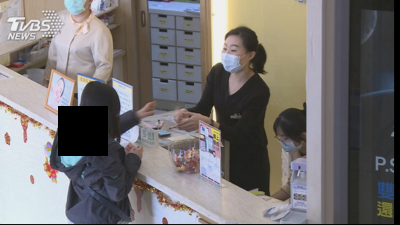with_mask: (221, 42, 246, 75), (275, 131, 302, 155)
